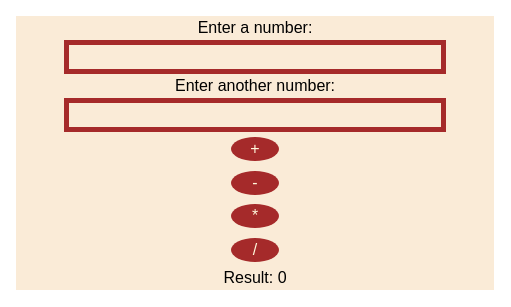
Calculator Component › Subtracting displays the correct difference
This screenshot has width=511, height=307.
Type "8" into the field labelled "Enter a number:" at (255, 57), box [64,40,446,74]
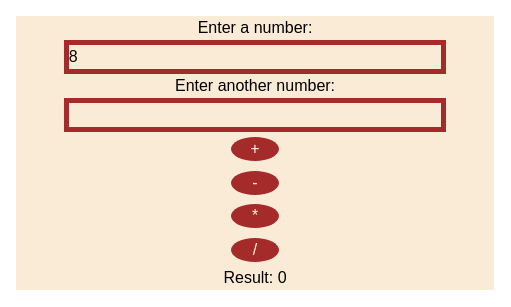
Type "3" into the field labelled "Enter another number:" at (255, 115), box [64,98,446,132]
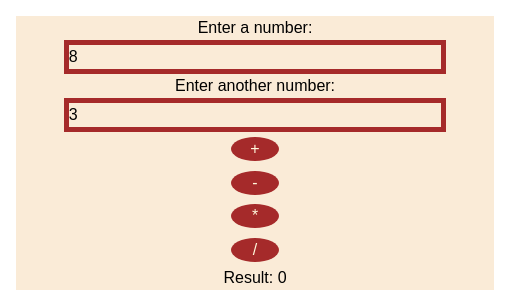
Click the button "-" at (255, 183), box [231,171,279,195]
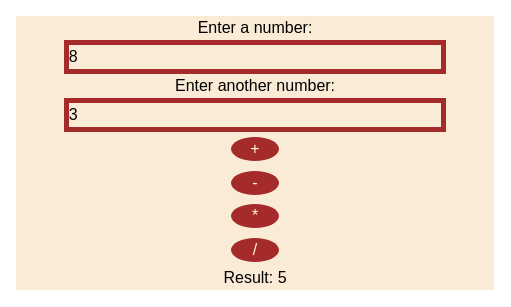
Now the text "Result: 5" is shown, box [223,266,287,290]
